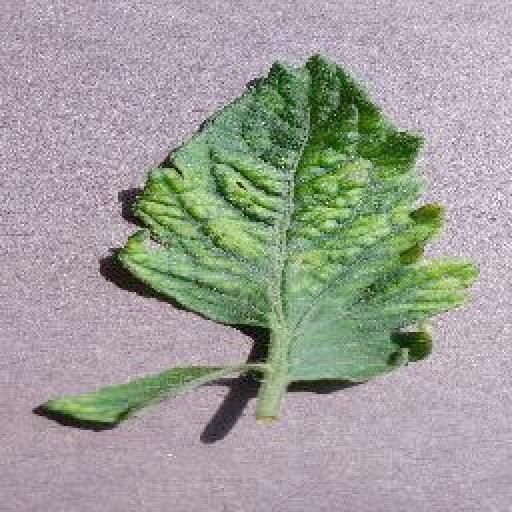Mosaic Virus: (116, 50, 480, 386), (38, 362, 232, 428)
